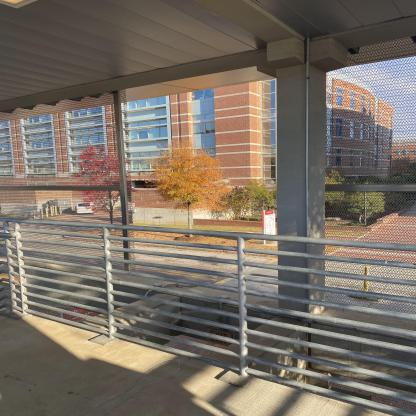EB-1: (0, 80, 415, 239)
